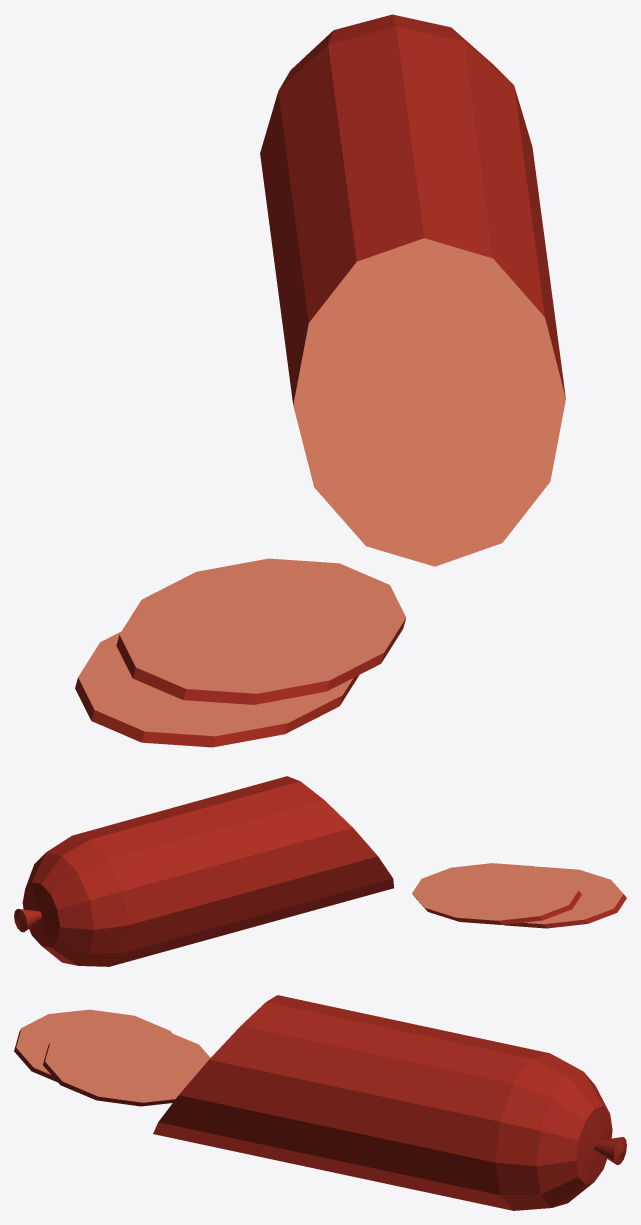
Rendered from Sausage.fbx.
3 views of the same model, one above another, from view 1: azimuth 30°, elevation 25°; view 2: azimuth 150°, elevation 25°; view 3: azimuth 270°, elevation 25° (orthographic). The views are drawn at different scales.
Parts seen in each view (by area): view 1: Sausage; view 2: Sausage; view 3: Sausage.
Part boxes in pixels (left/top/right/bottom): Sausage: left=75, top=14, right=565, bottom=747; Sausage: left=14, top=776, right=626, bottom=966; Sausage: left=14, top=995, right=626, bottom=1210.
Bounding box in the file's own units: 10.41 × 3.18 × 11.69.
